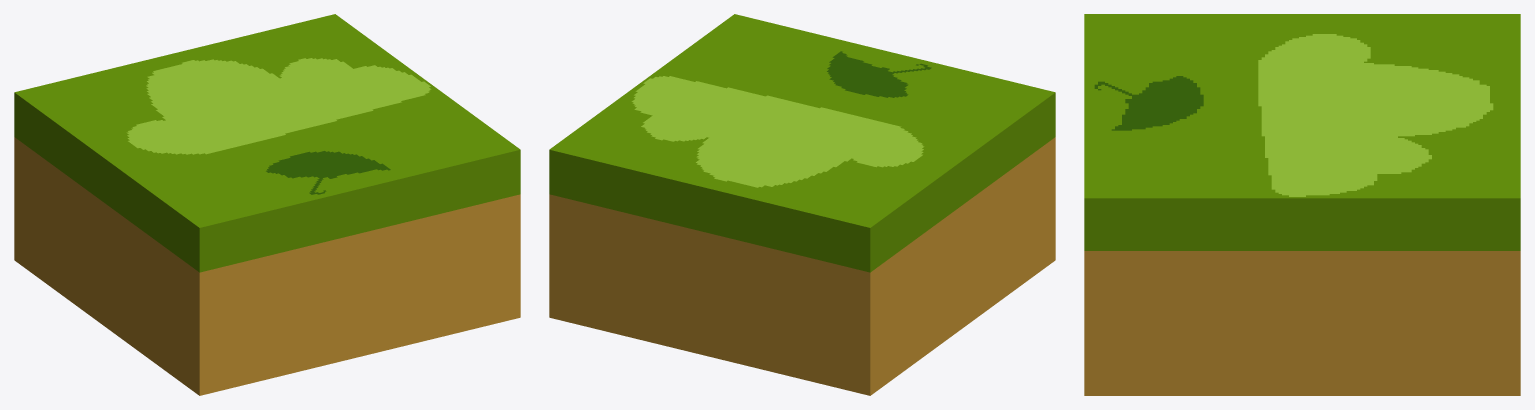
The picture shows the model from 3 angles, left to right: view 1: azimuth 30°, elevation 25°; view 2: azimuth 150°, elevation 25°; view 3: azimuth 270°, elevation 25°; orthographic projection. The views are drawn at different scales.
Visible parts, largest first — view 1: 16M; view 2: 16M; view 3: 16M.
Boxes of the visible parts, bbox=[...] form: 16M: bbox=[14, 14, 520, 395]; 16M: bbox=[549, 14, 1055, 395]; 16M: bbox=[1084, 14, 1520, 395].
Bounding box in the file's own units: 12.8 × 6.4 × 12.8.
Materials: 1 (1 with a texture image).
